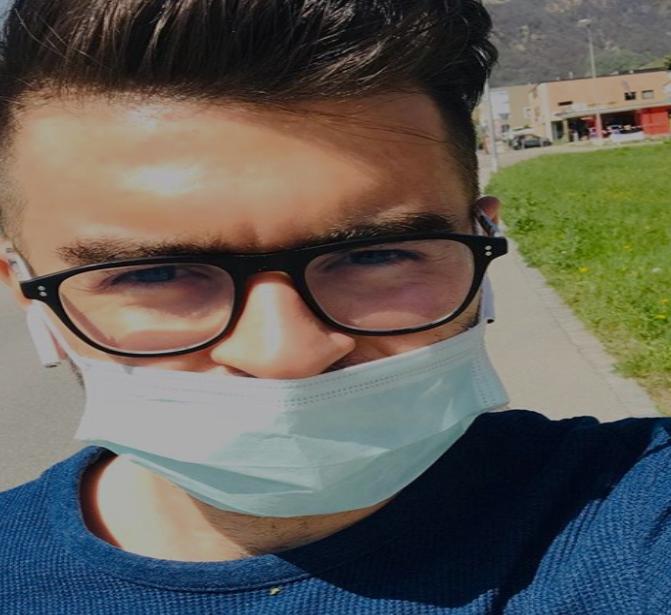mask_weared_incorrect: (1, 43, 515, 525)
